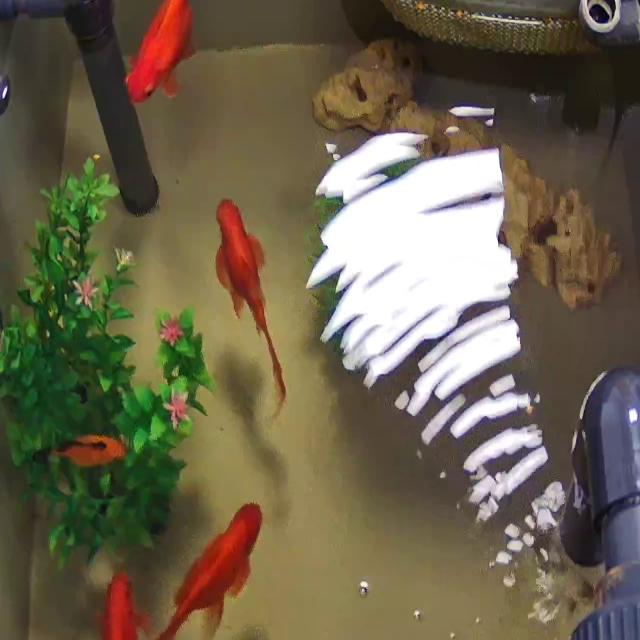fish: (193, 165, 302, 423), (108, 502, 262, 640), (123, 0, 208, 112), (92, 564, 155, 640), (45, 435, 126, 468)
